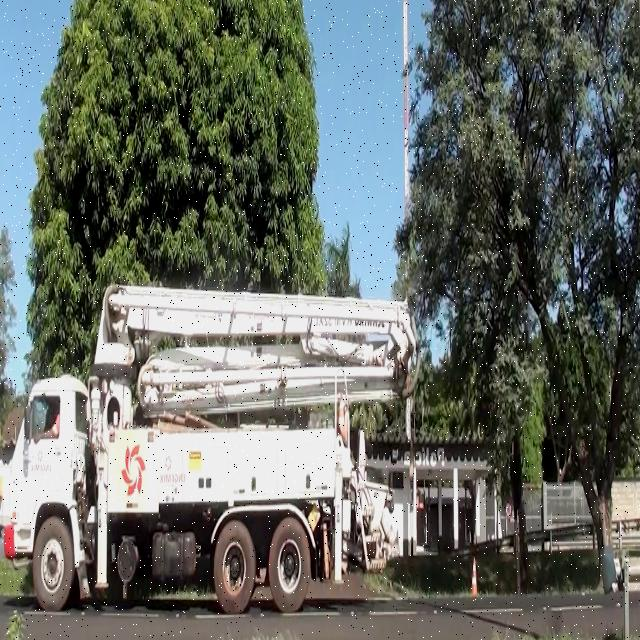-axle: (212, 517, 256, 619), (267, 517, 311, 616), (31, 520, 76, 614)
